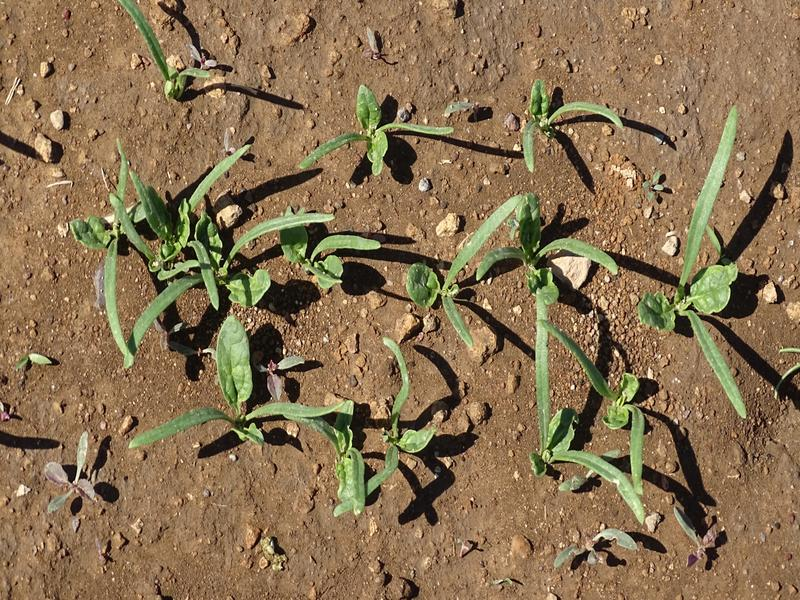Espinaca: (73, 146, 383, 520), (424, 203, 761, 516), (311, 82, 445, 177), (519, 75, 617, 169), (119, 1, 209, 99)
